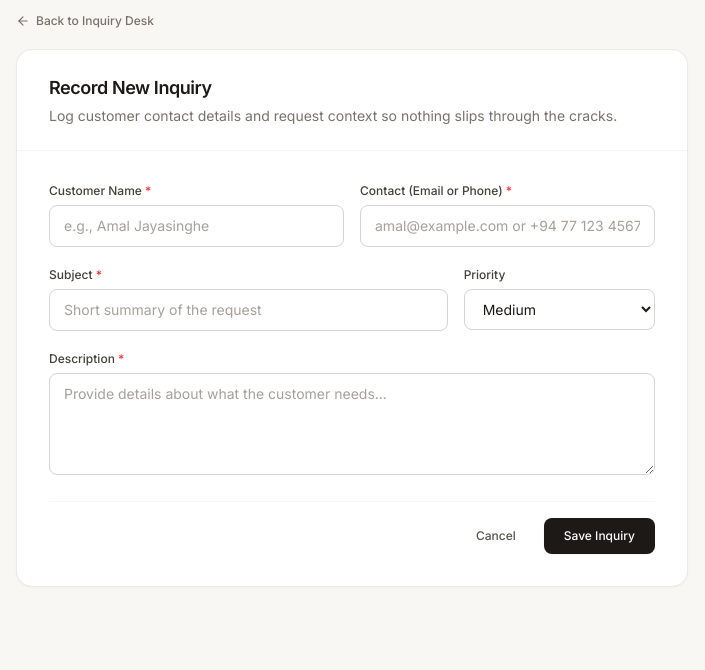
NewInquiryPage - Form Validation & Error States › 1. Shows inline validation errors when submitting missing/invalid data
# Submit empty form
Click the button "Save Inquiry".
click(599, 536)  # box [544,518,655,554]
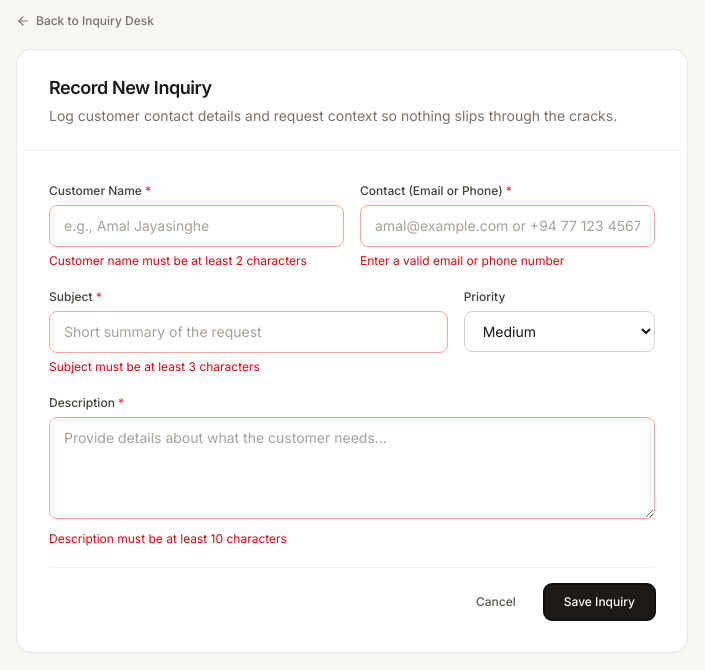
Expected: the text "Customer name must be at least 2 characters" is shown, [49,253,344,269]
Expected: the text "Enter a valid email or phone number" is shown, [360,253,564,268]
Expected: the text "Subject must be at least 3 characters" is shown, [49,359,260,374]
